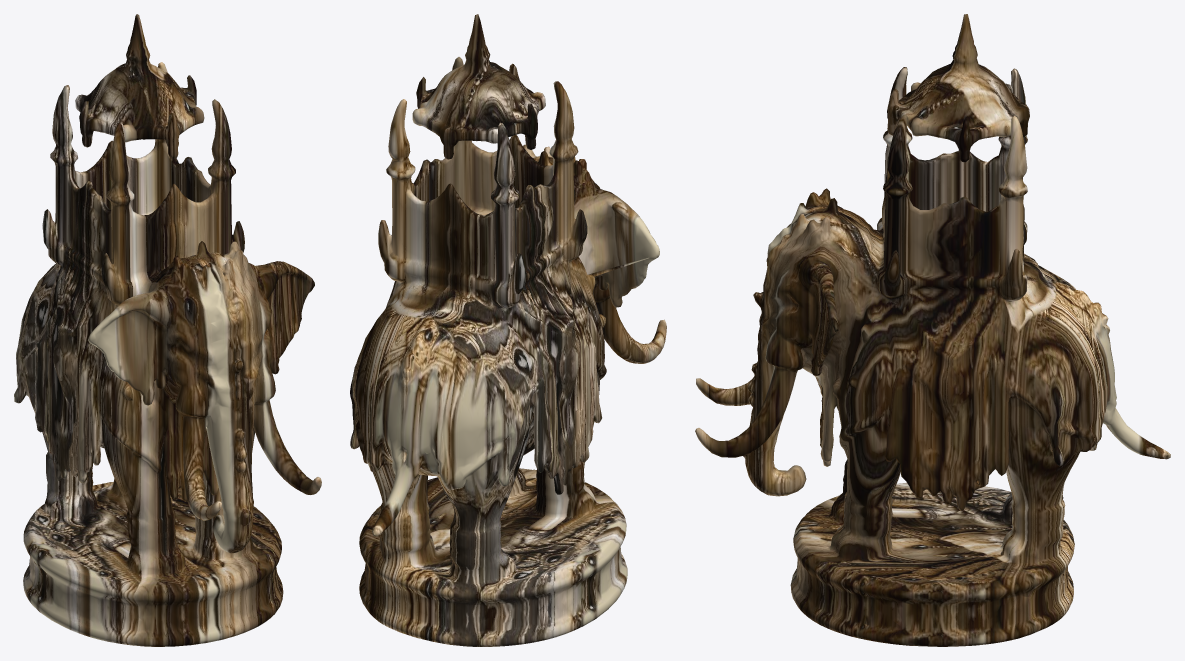
Rendered from gaja.glb.
3 renders of one model, left to right at view 1: azimuth 30°, elevation 25°; view 2: azimuth 150°, elevation 25°; view 3: azimuth 270°, elevation 25°, orthographic. The views are drawn at different scales.
Visible parts, largest first — view 1: geometry_0; view 2: geometry_0; view 3: geometry_0.
Boxes of the visible parts, left/top/right/bottom form: geometry_0: left=14, top=14, right=321, bottom=646; geometry_0: left=350, top=14, right=666, bottom=646; geometry_0: left=695, top=14, right=1170, bottom=646.
Bounding box in the file's own units: 0.8199 × 1.96 × 1.45.
Materials: 1 (1 with a texture image).
